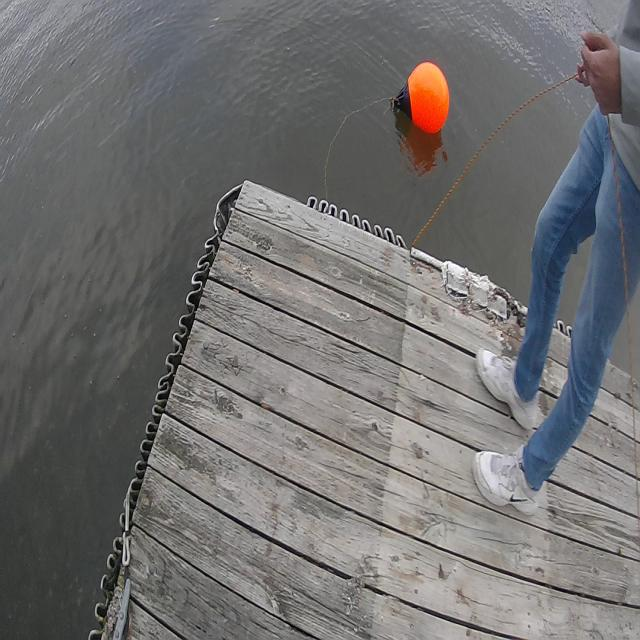Buoy: (389, 50, 457, 150)
